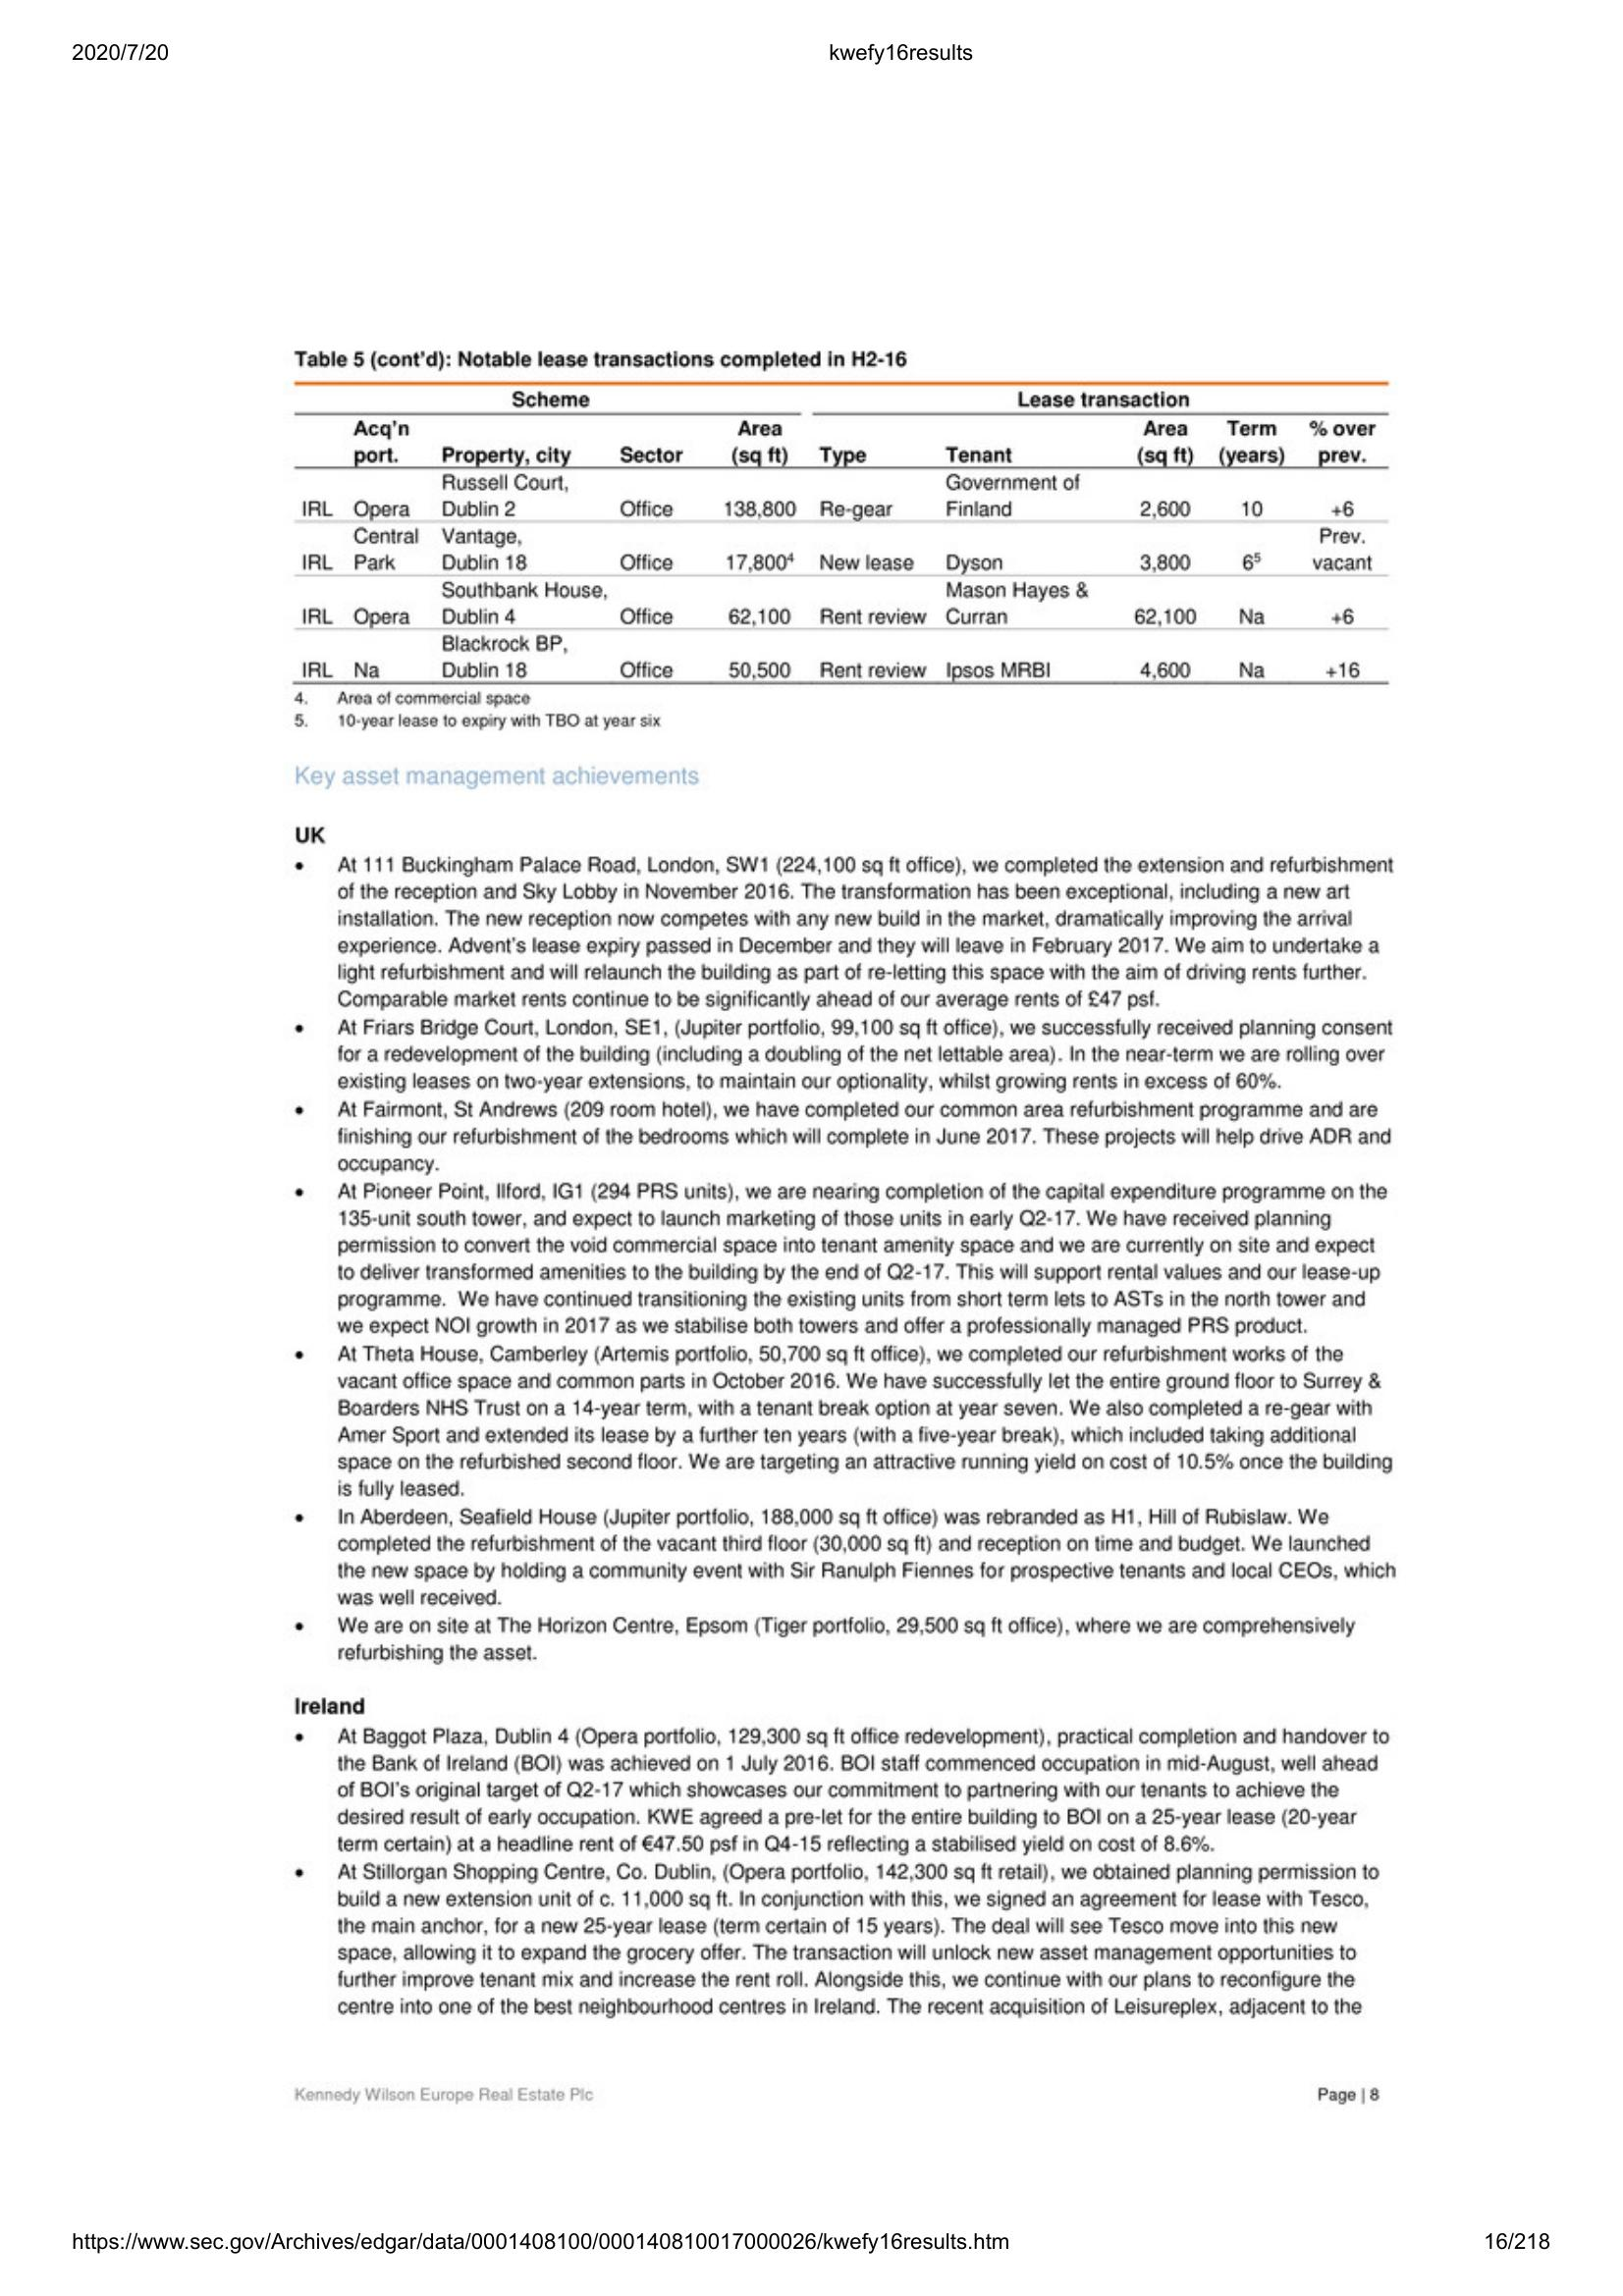table: (288, 377, 1398, 690)
